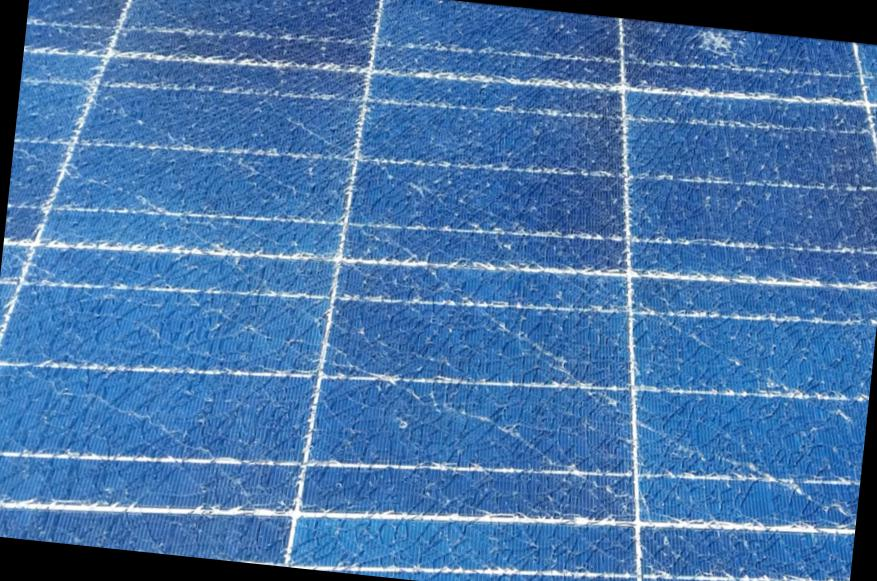Crack: (0, 201, 331, 568), (302, 237, 624, 580), (591, 267, 876, 580), (348, 1, 676, 266), (8, 0, 362, 226), (653, 27, 876, 303), (682, 26, 752, 76)
